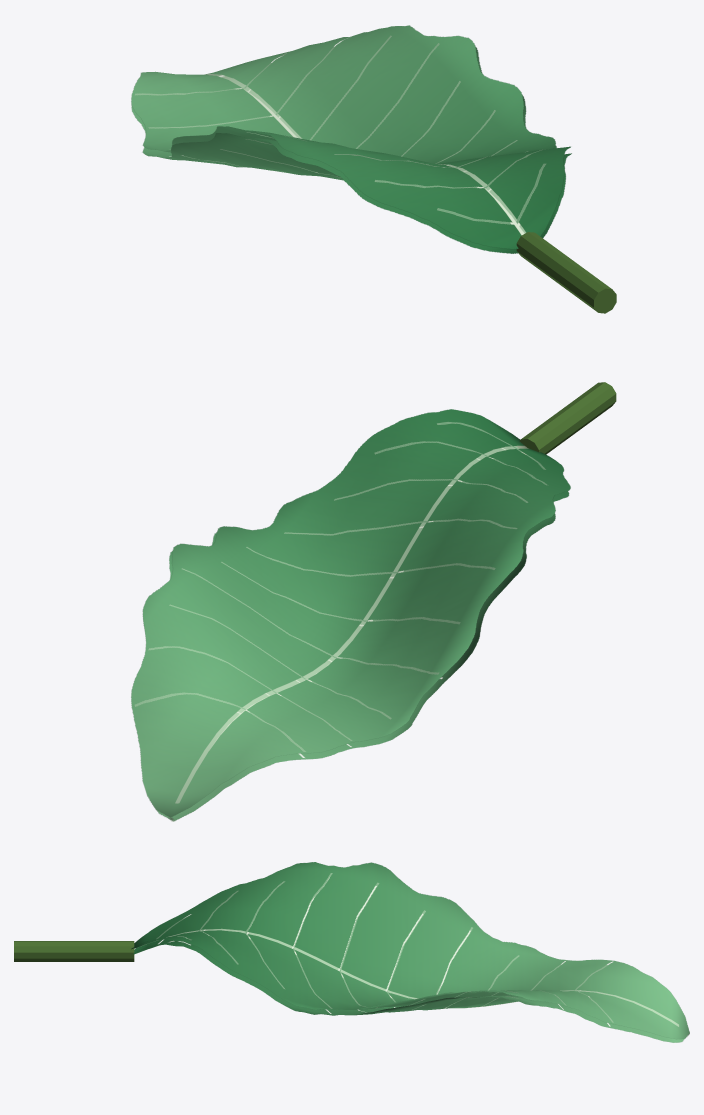
Rendered from leaf-mate.glb.
3 views of the same model, one above another, from view 1: azimuth 30°, elevation 25°; view 2: azimuth 150°, elevation 25°; view 3: azimuth 270°, elevation 25° (orthographic). The views are drawn at different scales.
Visible parts, largest first — view 1: leaf-mate, Cylinder; view 2: leaf-mate, Cylinder; view 3: leaf-mate, Cylinder.
Part boxes in pixels (<box>): leaf-mate: <box>131,25,571,253</box>; Cylinder: <box>516,232,616,313</box>; leaf-mate: <box>131,409,570,821</box>; Cylinder: <box>517,382,616,454</box>; leaf-mate: <box>131,862,689,1042</box>; Cylinder: <box>14,941,134,961</box>.
Size of the model in its own units: 0.2139 by 0.1211 by 0.505.
Materials: 2 (1 with a texture image).
